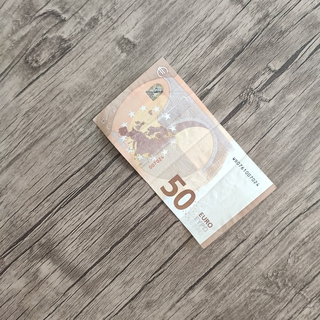50EUROBack: (90, 54, 278, 251)
